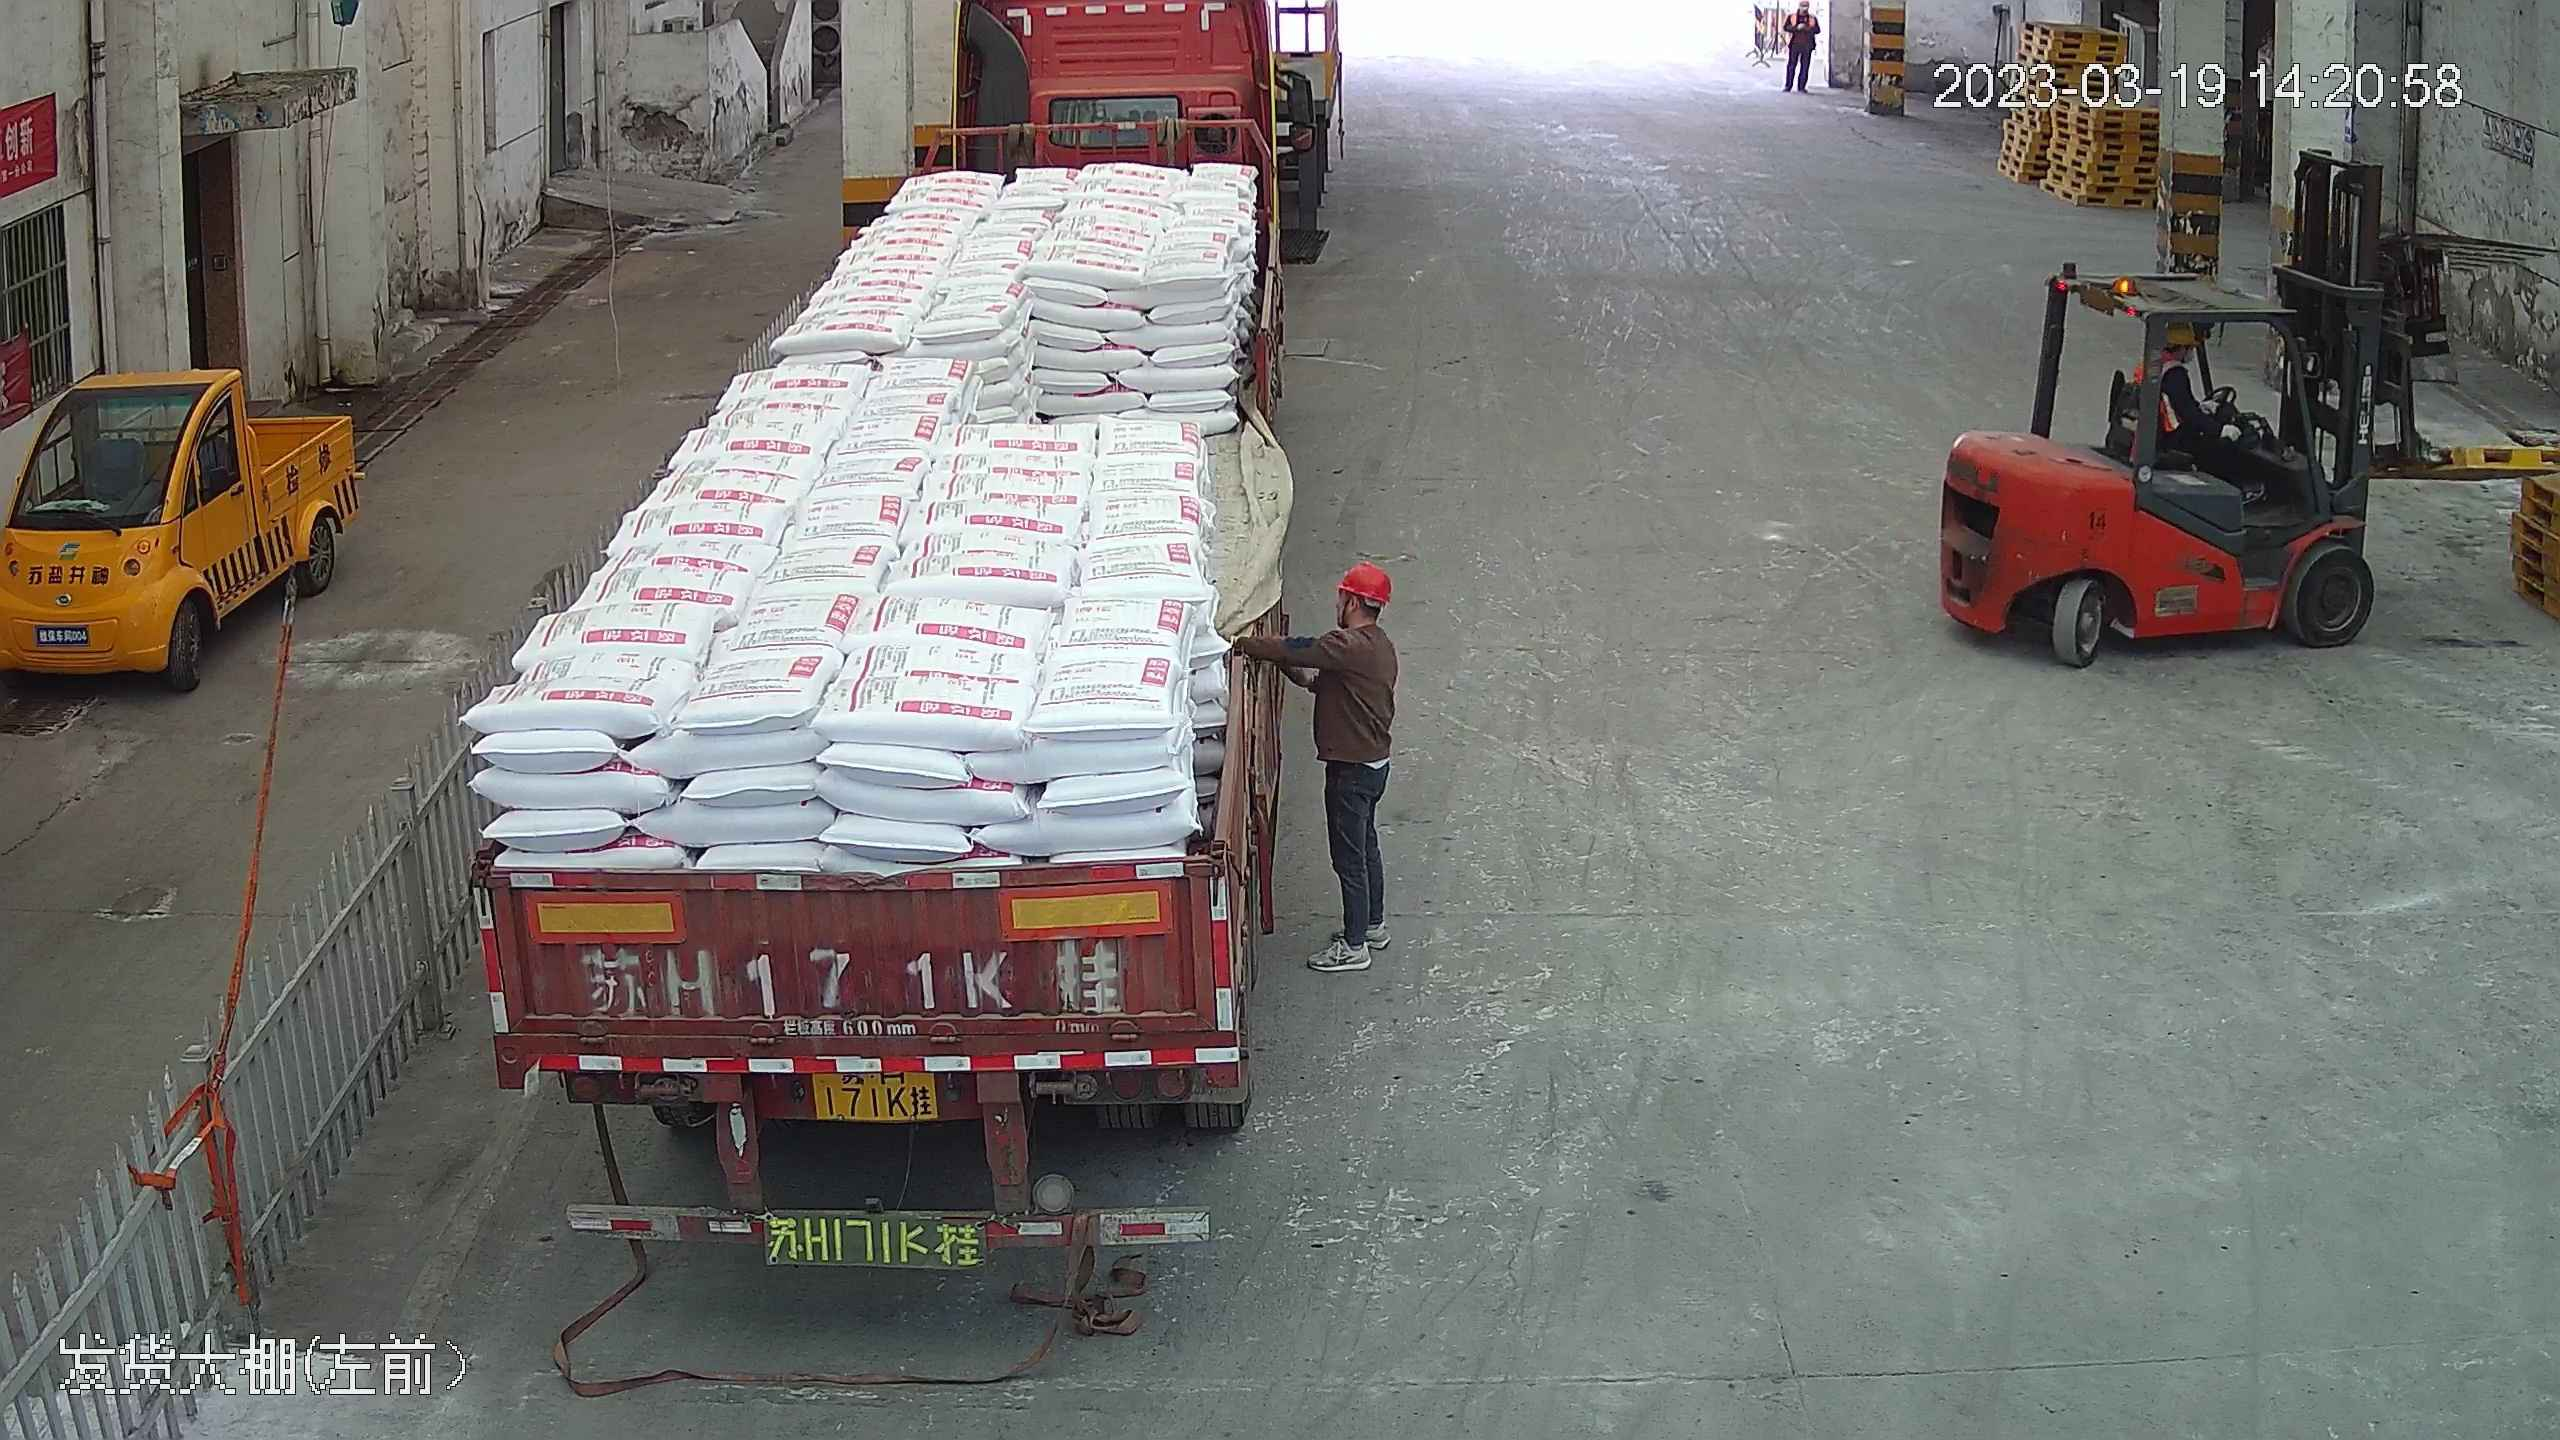head: (1312, 558, 1400, 674), (2146, 318, 2219, 400)
helmet: (1332, 558, 1394, 602), (2159, 319, 2201, 347)
people: (1279, 556, 1403, 965)
truck: (440, 2, 1302, 1283)
